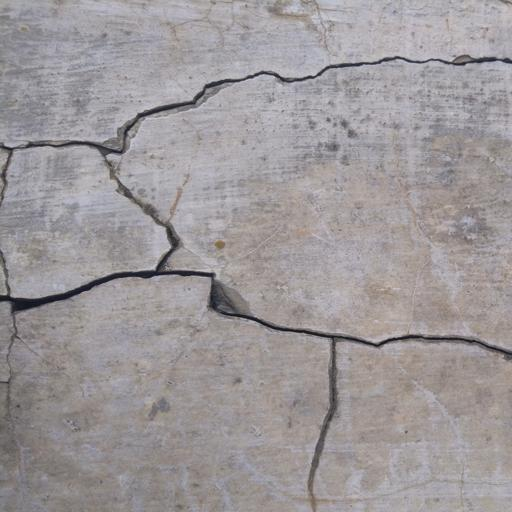major_crack: (0, 43, 512, 512)
